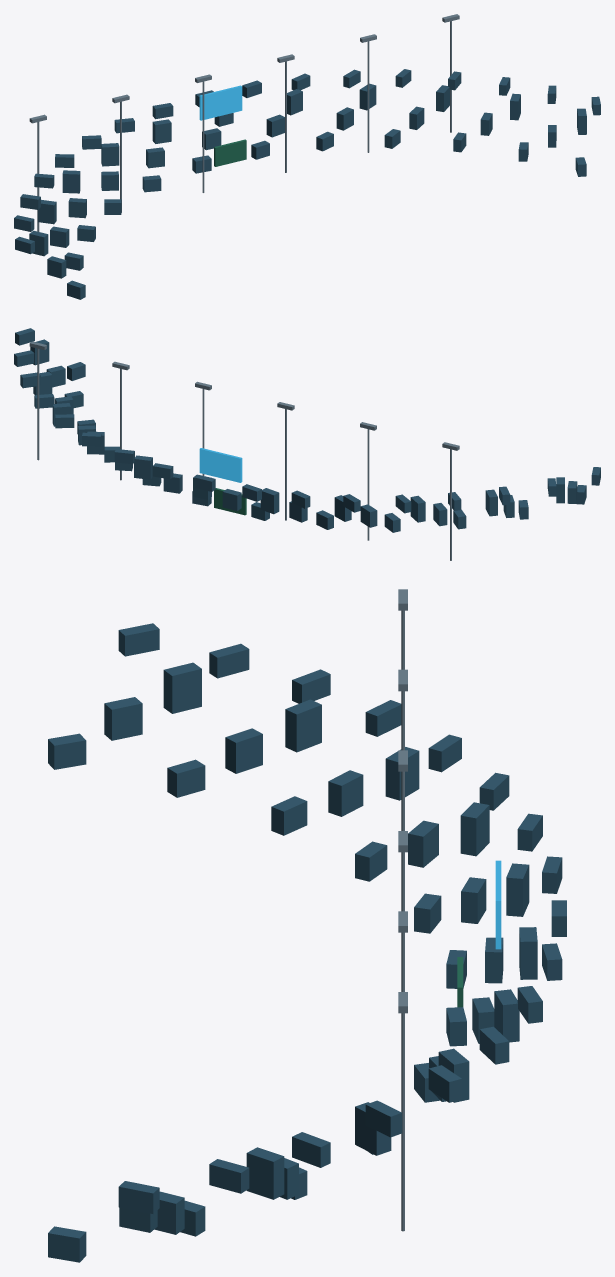
The model's file is generic_stadium-medium.glb.
3 views of the same model, one above another, from view 1: azimuth 30°, elevation 25°; view 2: azimuth 150°, elevation 25°; view 3: azimuth 270°, elevation 25° (orthographic). The views are drawn at different scales.
Parts seen in each view (by area): view 1: CenterScoreboard, BatterEye, Stand_14, Stand_8, Stand_11, Stand_5, Stand_23, Stand_1; view 2: CenterScoreboard, Stand_20, Stand_14, Stand_16, Stand_8, BatterEye, Stand_10, LightPole_5, Stand_19, Stand_11, Stand_29; view 3: Stand_2, Stand_29, Stand_5, Stand_1, Stand_4, Stand_11, Stand_7, Stand_8, Stand_10, Stand_33, Stand_0, Stand_3 (+20 smaller).
Part boxes in pixels (<box>): CenterScoreboard: <box>199,85,242,120</box>; BatterEye: <box>214,139,246,166</box>; Stand_14: <box>152,119,171,143</box>; Stand_8: <box>62,170,80,193</box>; Stand_11: <box>101,143,119,166</box>; Stand_5: <box>38,199,56,224</box>; Stand_23: <box>359,83,376,110</box>; Stand_1: <box>47,256,66,278</box>; CenterScoreboard: <box>199,448,242,482</box>; Stand_20: <box>134,455,152,479</box>; Stand_14: <box>260,488,279,514</box>; Stand_16: <box>222,489,241,510</box>; Stand_8: <box>410,495,425,522</box>; BatterEye: <box>214,488,246,515</box>; Stand_10: <box>360,504,377,527</box>; LightPole_5: <box>37,348,39,460</box>; Stand_19: <box>163,473,182,493</box>; Stand_11: <box>334,495,351,521</box>; Stand_29: <box>33,371,52,395</box>; Stand_2: <box>163,662,201,713</box>; Stand_29: <box>246,1147,284,1199</box>; Stand_5: <box>285,699,321,752</box>; Stand_1: <box>104,697,142,740</box>; Stand_4: <box>225,728,262,773</box>; Stand_11: <box>460,802,489,856</box>; Stand_7: <box>328,770,363,816</box>; Stand_8: <box>385,747,419,800</box>; Stand_10: <box>408,820,438,867</box>; Stand_33: <box>48,1226,86,1262</box>; Stand_0: <box>48,733,86,769</box>; Stand_3: <box>167,759,205,797</box>.
Size of the model in its own units: 708 by 134 by 272.
